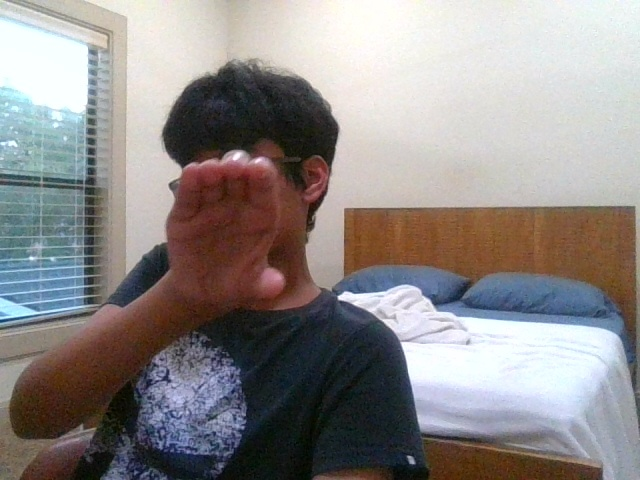no: (166, 150, 286, 302)
